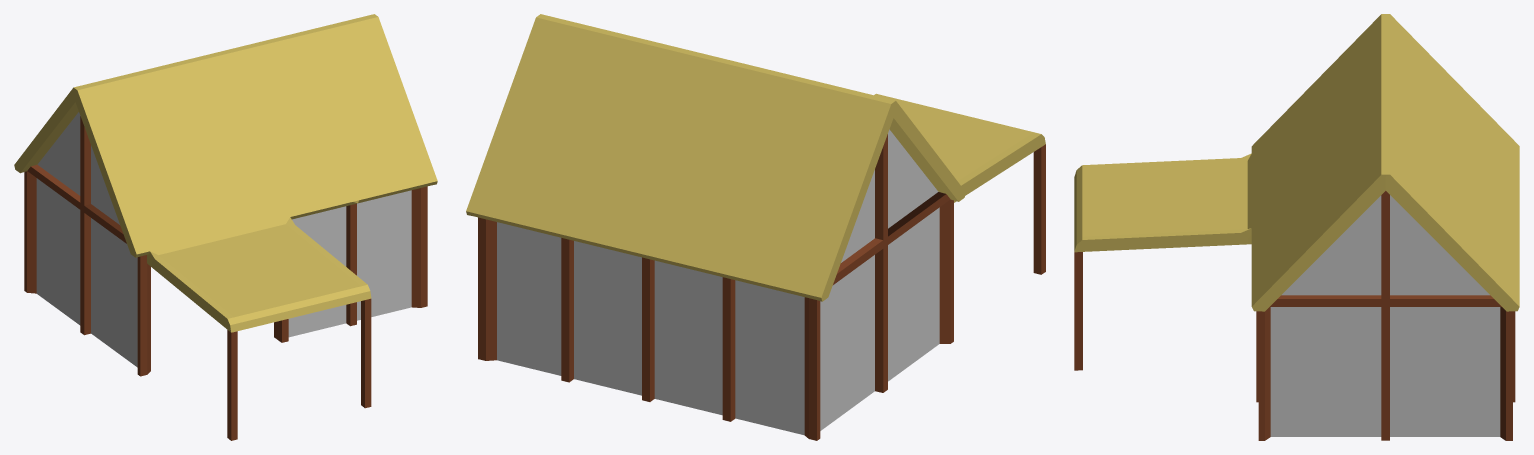
File: Rustic Blacksmith.fbx
The picture shows the model from 3 angles, left to right: view 1: azimuth 30°, elevation 25°; view 2: azimuth 150°, elevation 25°; view 3: azimuth 270°, elevation 25°; orthographic projection. The views are drawn at different scales.
Parts seen in each view (by area): view 1: Rustic Cottage; view 2: Rustic Cottage; view 3: Rustic Cottage.
Boxes of the visible parts, box(x1,y1,x2,y2) form: Rustic Cottage: box(14, 14, 437, 440); Rustic Cottage: box(466, 14, 1045, 440); Rustic Cottage: box(1074, 14, 1519, 440).
Bounding box in the file's own units: 441 × 351 × 516.
